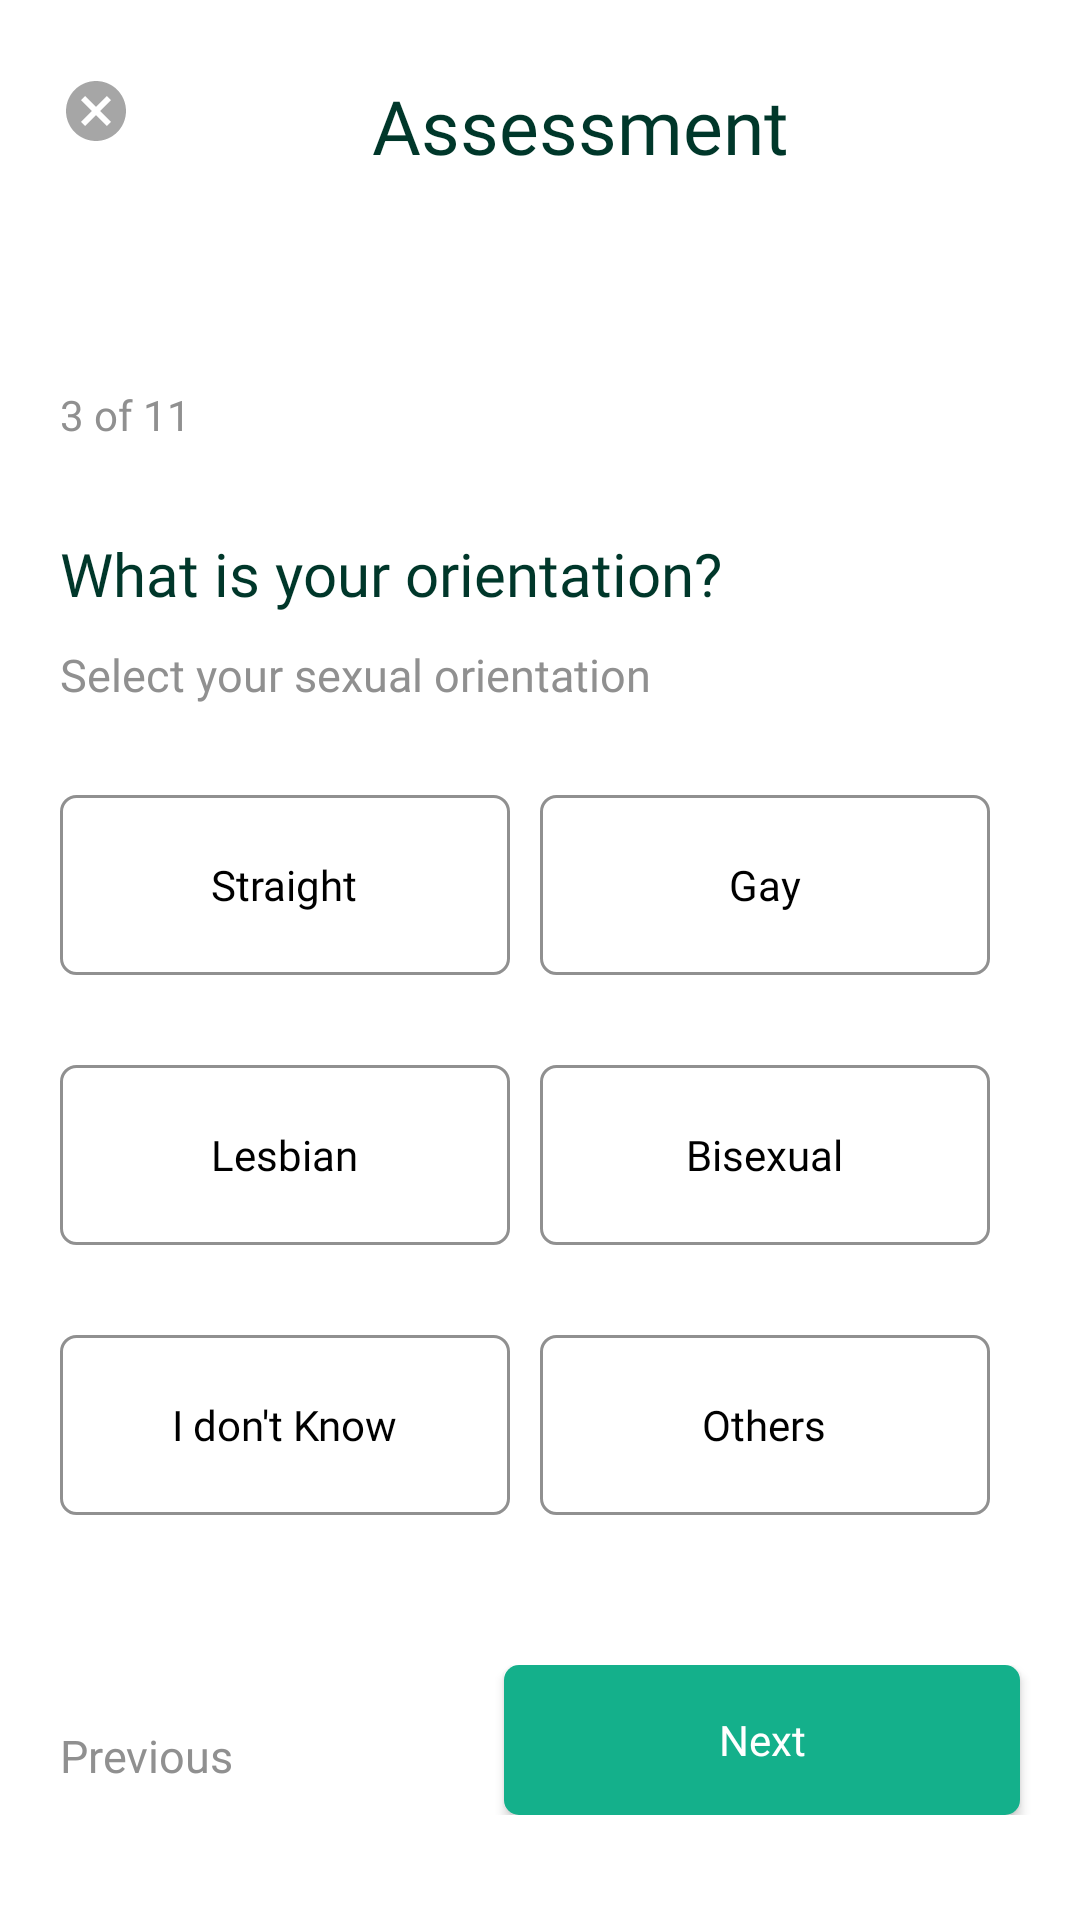

Icon click points for this 1080 × 1920 phone screenshot, format (x,y):
cancel: (96,111)
